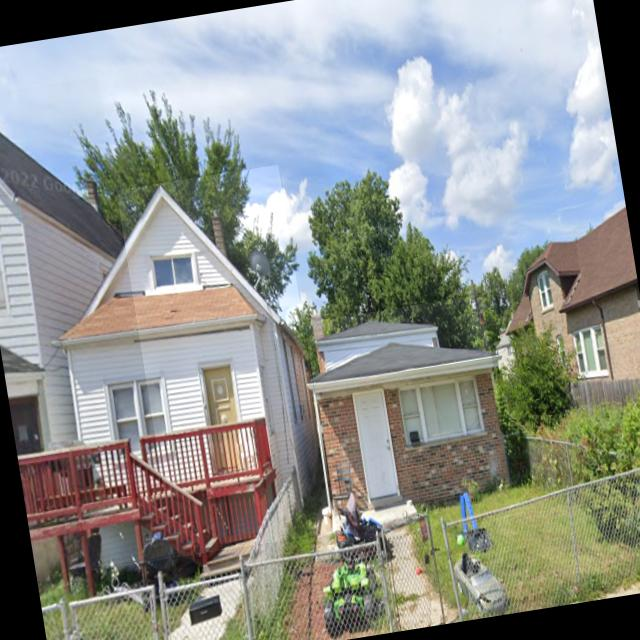House: (32, 165, 337, 571), (0, 76, 164, 515), (304, 294, 512, 514)
